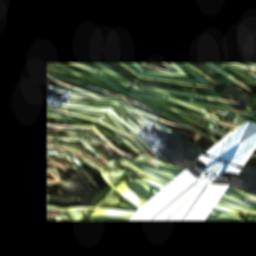Crow: (120, 119, 232, 180)
